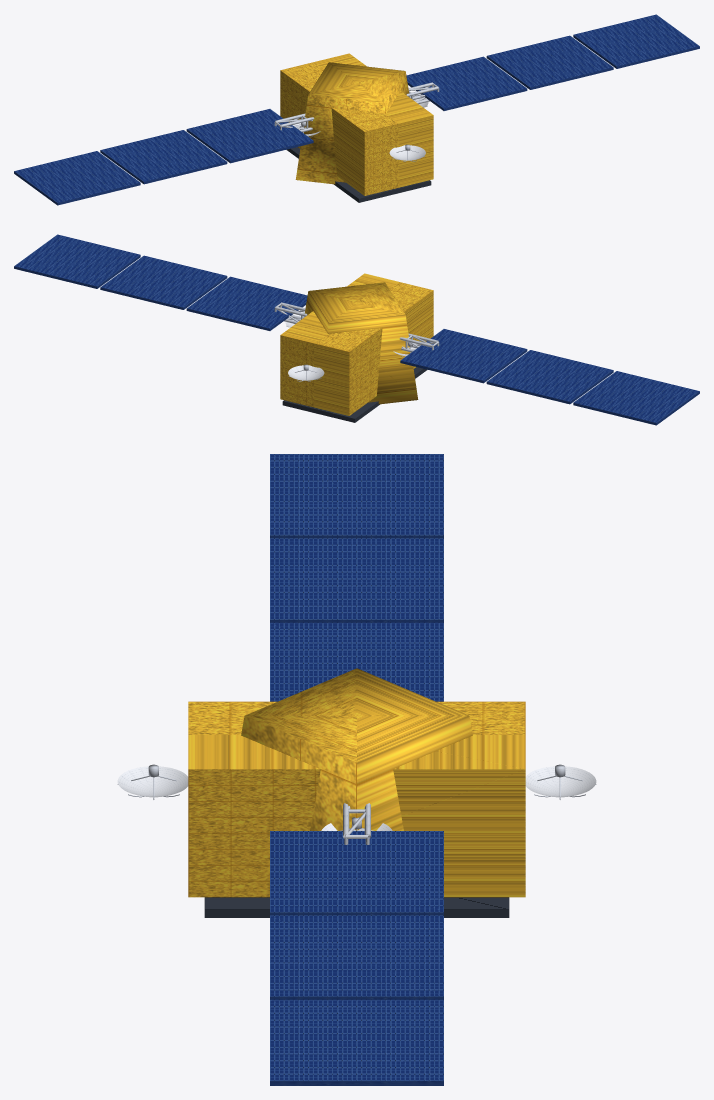
Rendered from sc_iridium_globalstar.glb.
The picture shows the model from 3 angles, top to bottom: view 1: azimuth 30°, elevation 25°; view 2: azimuth 150°, elevation 25°; view 3: azimuth 270°, elevation 25°; orthographic projection. The views are drawn at different scales.
Visible parts, largest first — view 1: iridium_solar_wings, iridium_trapezoid_bus, iridium_hardware_and_yokes, iridium_lband_mma, iridium_ka_crosslinks; view 2: iridium_solar_wings, iridium_trapezoid_bus, iridium_hardware_and_yokes, iridium_lband_mma, iridium_ka_crosslinks; view 3: iridium_solar_wings, iridium_trapezoid_bus, iridium_ka_crosslinks, iridium_lband_mma, iridium_hardware_and_yokes.
Boxes of the visible parts, bbox=[...] form: iridium_solar_wings: bbox=[14, 14, 699, 205]; iridium_trapezoid_bus: bbox=[280, 53, 433, 195]; iridium_hardware_and_yokes: bbox=[274, 82, 439, 161]; iridium_lband_mma: bbox=[286, 147, 431, 202]; iridium_ka_crosslinks: bbox=[292, 95, 428, 160]; iridium_solar_wings: bbox=[14, 234, 699, 425]; iridium_trapezoid_bus: bbox=[280, 273, 433, 415]; iridium_hardware_and_yokes: bbox=[274, 302, 439, 381]; iridium_lband_mma: bbox=[282, 367, 427, 422]; iridium_ka_crosslinks: bbox=[285, 315, 420, 380]; iridium_solar_wings: bbox=[270, 454, 443, 1085]; iridium_trapezoid_bus: bbox=[188, 668, 525, 897]; iridium_ka_crosslinks: bbox=[117, 766, 596, 830]; iridium_lband_mma: bbox=[204, 897, 509, 917]; iridium_hardware_and_yokes: bbox=[117, 764, 596, 844].
Size of the model in its own units: 1.98 by 0.2462 by 0.6409.
Materials: 5 (5 with a texture image).
